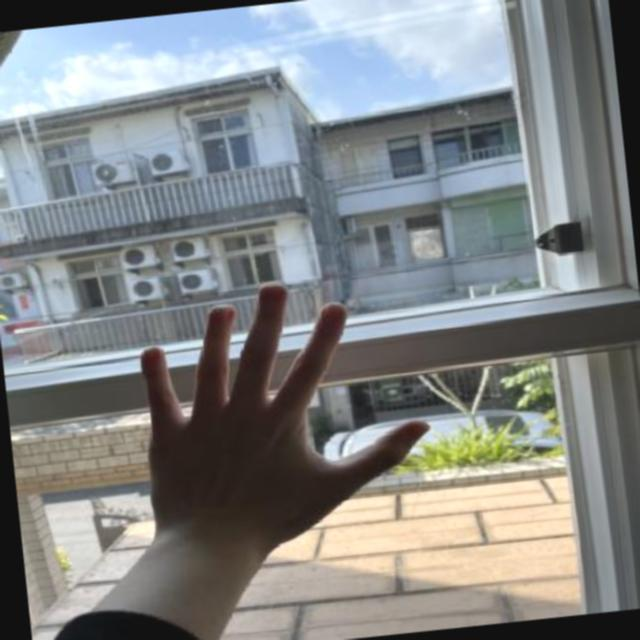hand: (112, 258, 445, 566)
